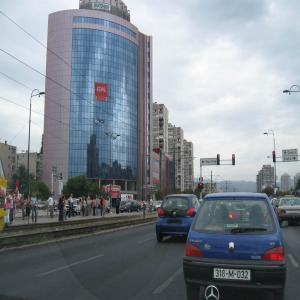Vehicle-registration-plate: (215, 270, 251, 281)
